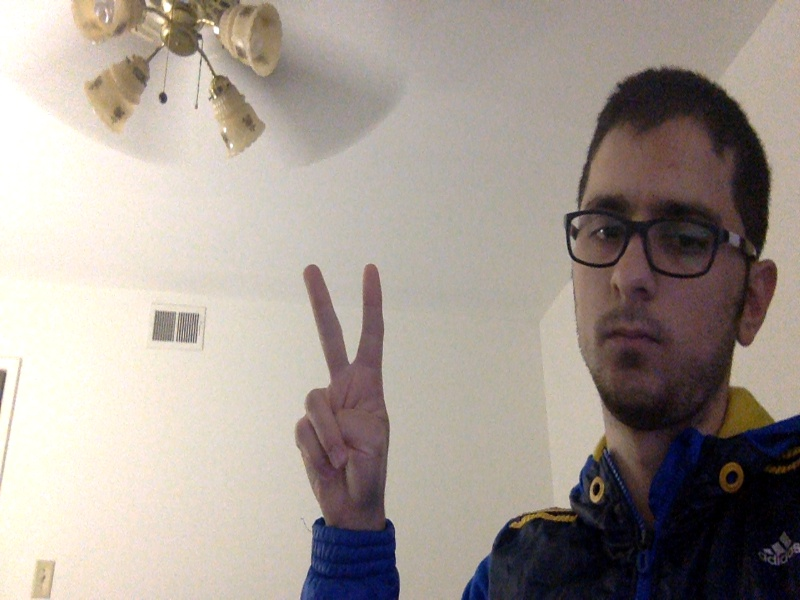2-hand: (296, 263, 392, 526)
